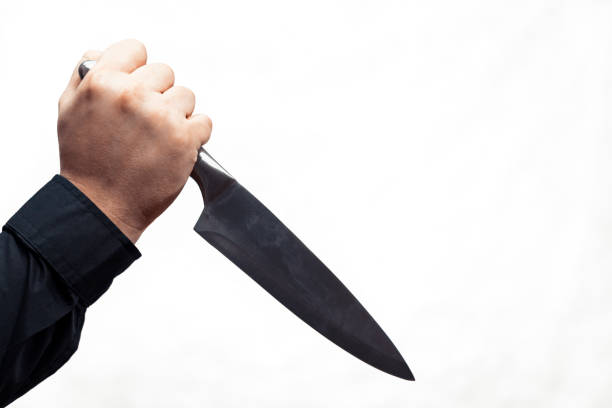knife: (190, 147, 418, 383)
